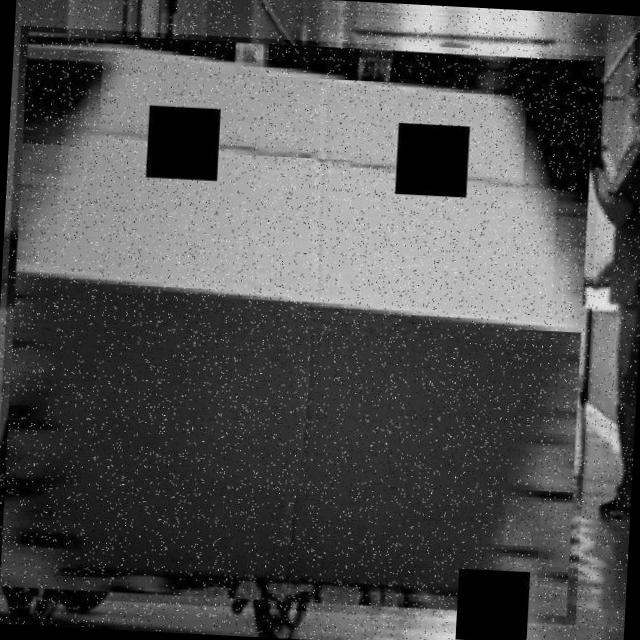box: (0, 26, 605, 627)
